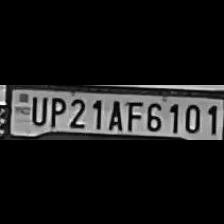0: (180, 100, 202, 132)
1: (164, 99, 182, 131), (203, 102, 221, 134), (88, 97, 104, 128)
2: (66, 96, 88, 128)
6: (142, 98, 164, 130)
A: (103, 97, 123, 129)
F: (124, 97, 142, 129)
P: (46, 96, 66, 127)
U: (28, 94, 46, 124)
